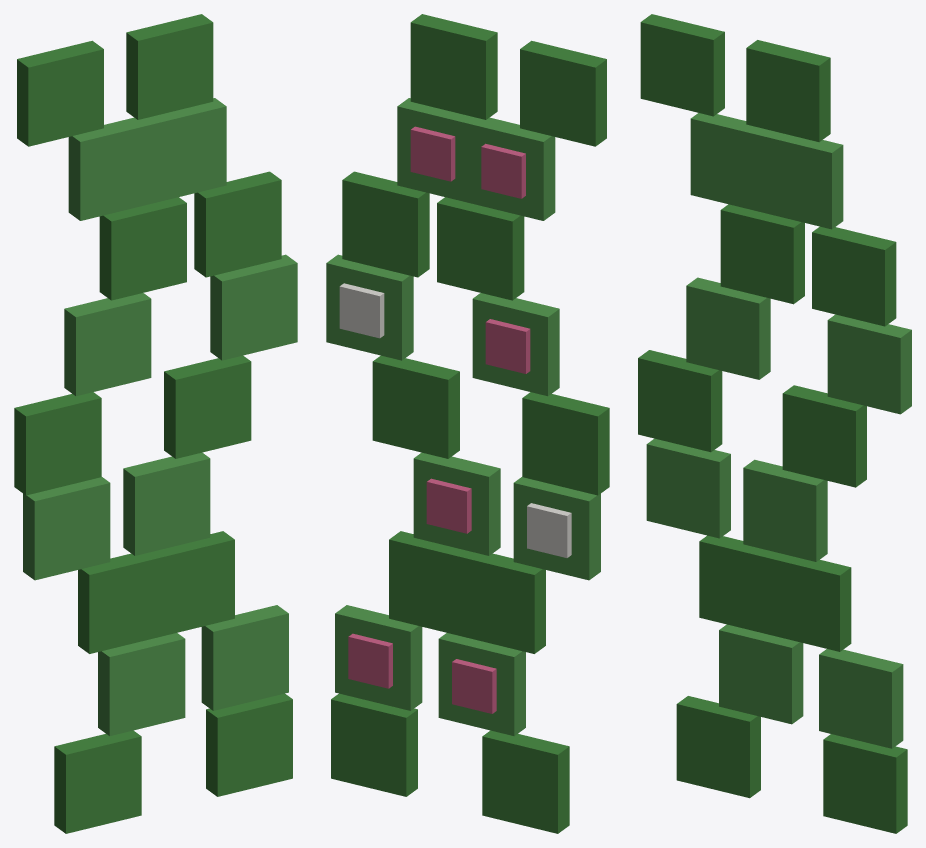
Rendered from ncb-rose-vine.glb.
The picture shows the model from 3 angles, left to right: view 1: azimuth 30°, elevation 25°; view 2: azimuth 150°, elevation 25°; view 3: azimuth 330°, elevation 25°; orthographic projection. The views are drawn at different scales.
Visible parts, largest first — view 1: box-prop; view 2: box-prop; view 3: box-prop.
Boxes of the visible parts, x1,y1,x2,y2 form: box-prop: (14, 14, 297, 833); box-prop: (326, 14, 609, 833); box-prop: (638, 14, 911, 833).
Bounding box in the file's own units: 1.08 × 2.94 × 0.11.
